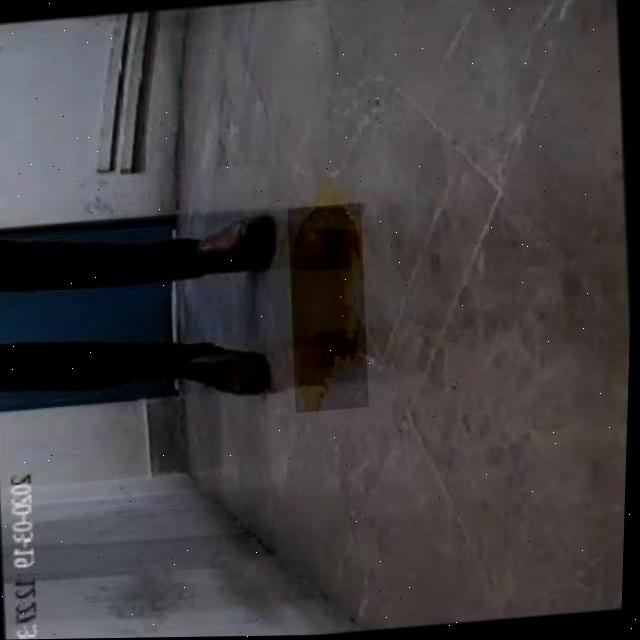spillage: (292, 205, 363, 411)
